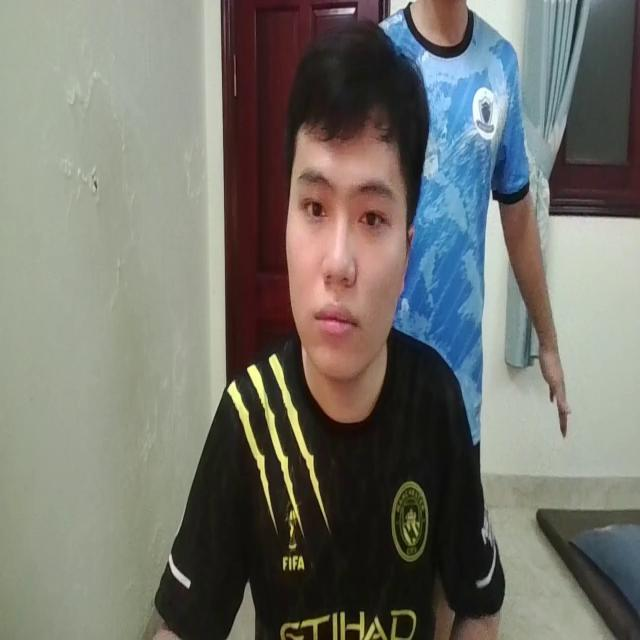extra_person: (386, 0, 570, 442)
student: (155, 19, 500, 640)
